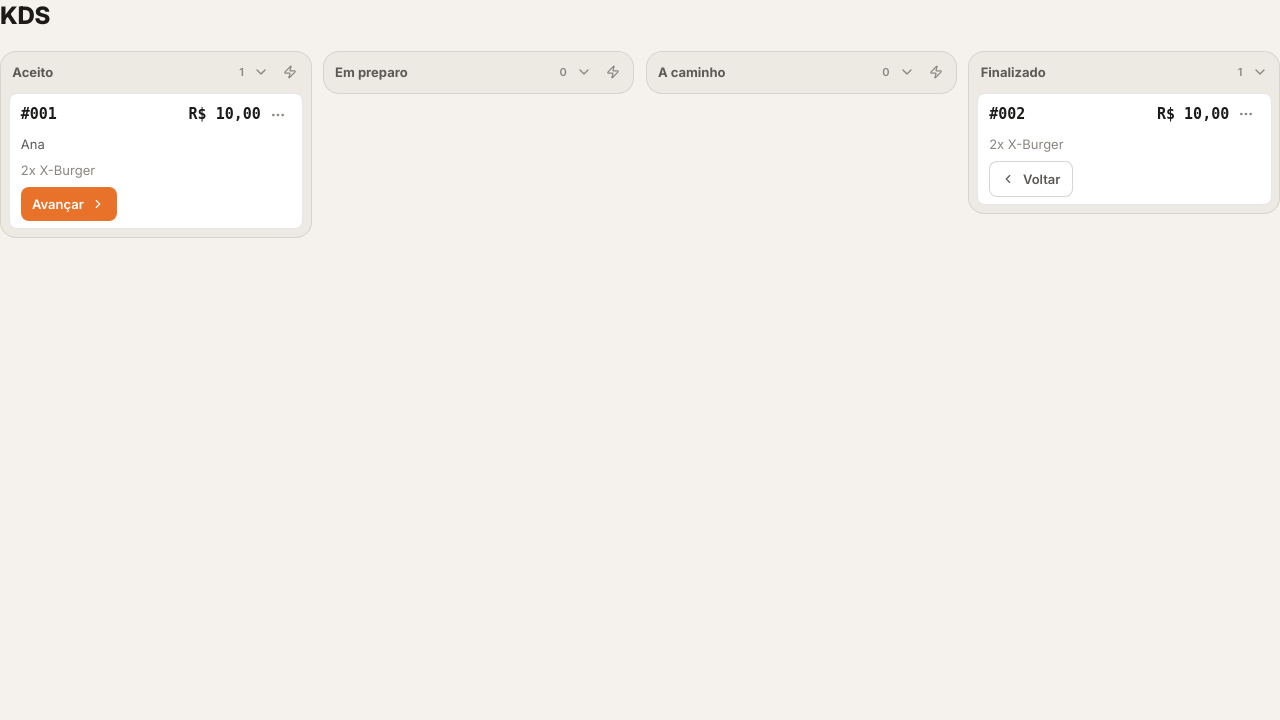
Test: KdsPage stage move modal › closes the modal after moving
Click the button named "Mover pedido #001 para outra etapa". click: [278, 115]
box: [265,102,291,128]
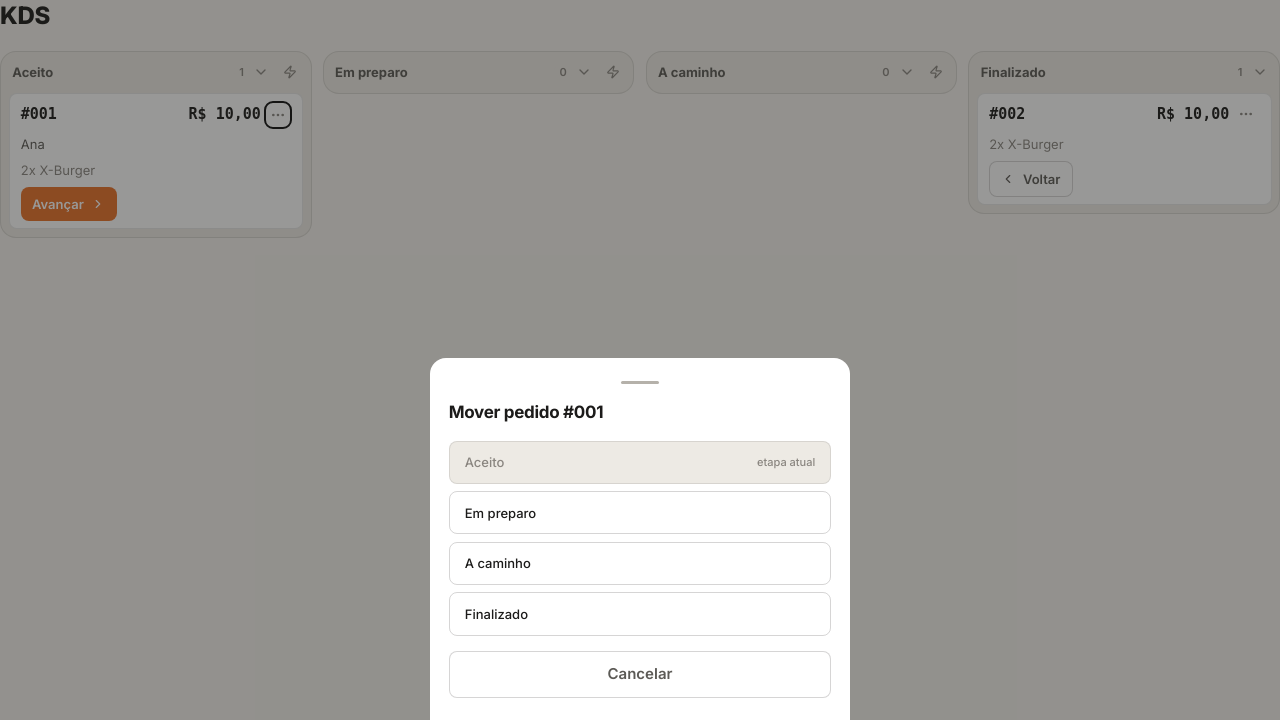
Click the button "Finalizado". click: [496, 614]
box: [449,592,831,636]
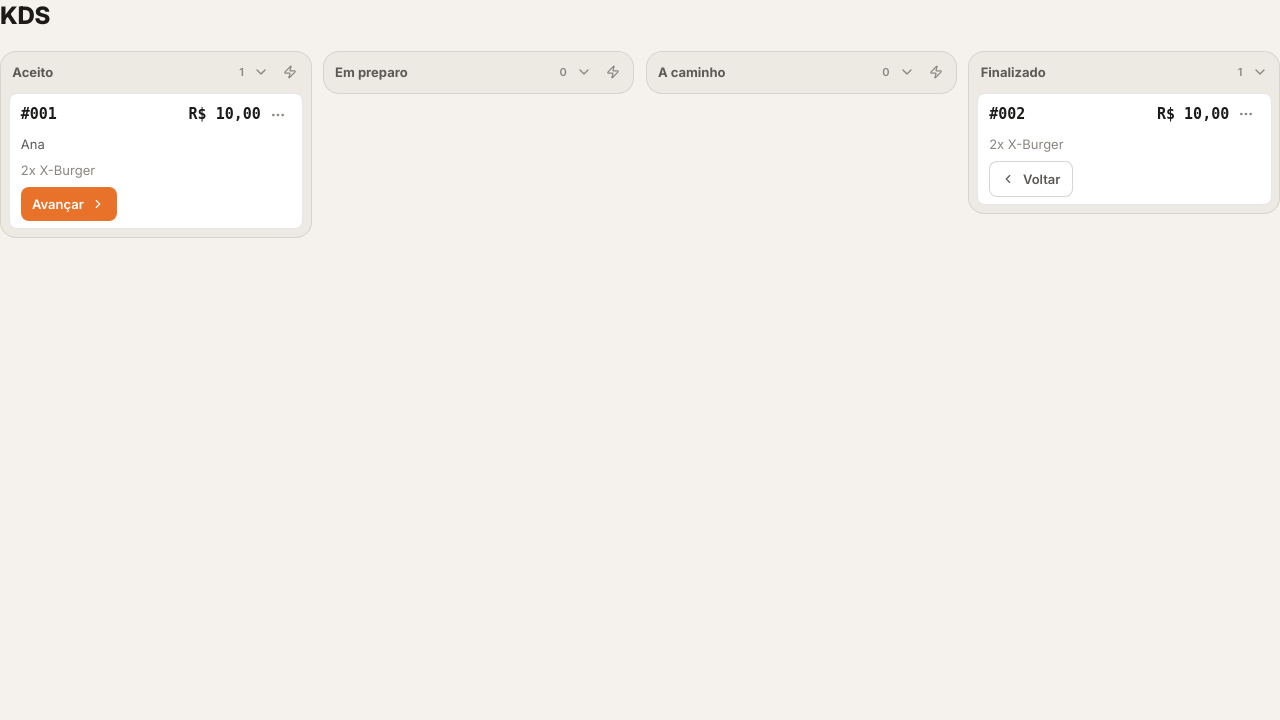
Expected: the dialog is gone
